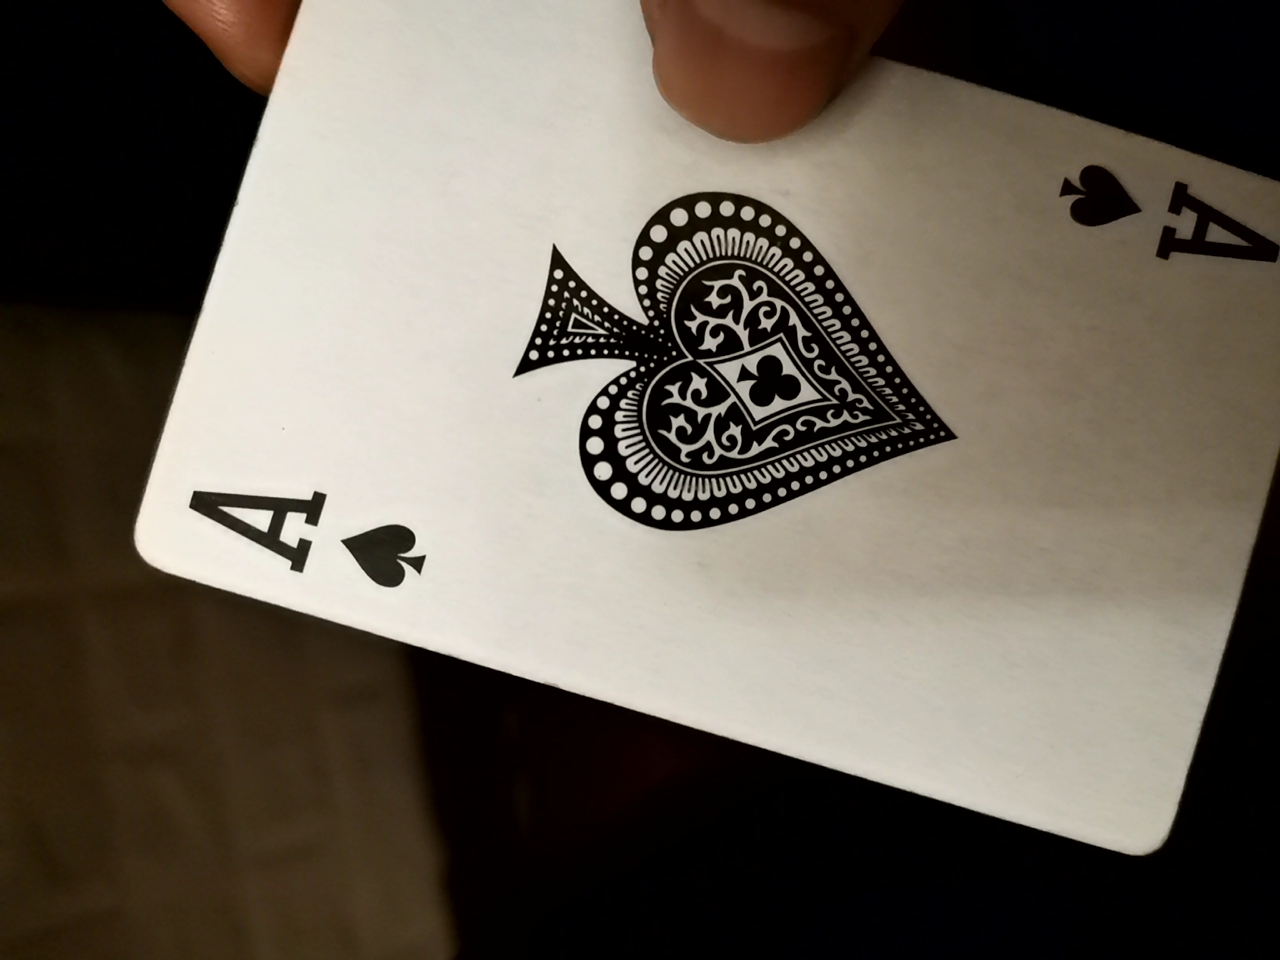ht a: (107, 17, 1270, 879)
